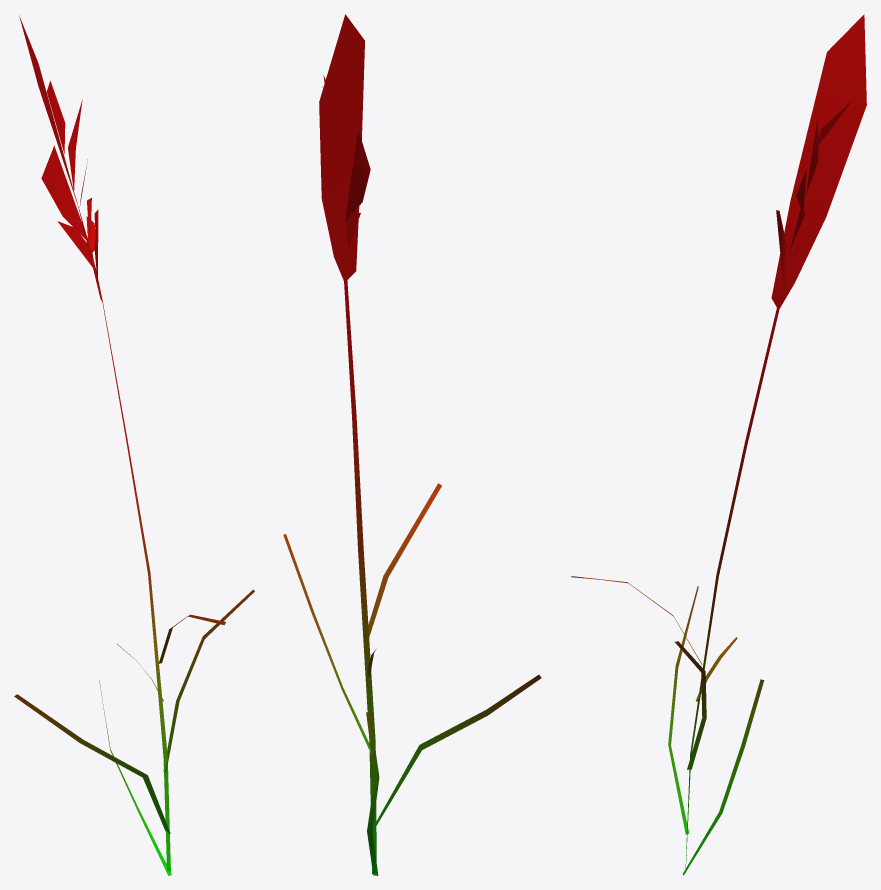
Rendered from Tundra Grass_LOD5_Var20_wk2oaeyqx.fbx.
3 views of the same model, side by side, from view 1: azimuth 30°, elevation 25°; view 2: azimuth 150°, elevation 25°; view 3: azimuth 270°, elevation 25° (orthographic). The views are drawn at different scales.
Visible parts, largest first — view 1: _pkmr_Var20_LOD5; view 2: _pkmr_Var20_LOD5; view 3: _pkmr_Var20_LOD5.
Part boxes in pixels (left/top/right/bottom): _pkmr_Var20_LOD5: left=14, top=15, right=254, bottom=875; _pkmr_Var20_LOD5: left=283, top=14, right=541, bottom=875; _pkmr_Var20_LOD5: left=571, top=14, right=866, bottom=875.
Size of the model in its own units: 15.71 by 53.12 by 17.22.
